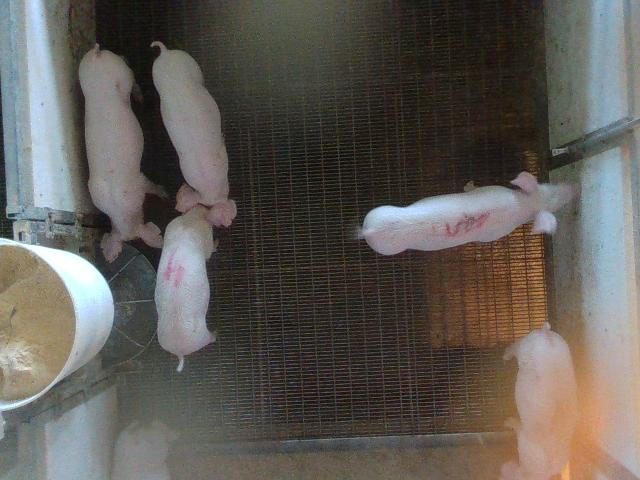pig-1: (501, 322, 578, 478)
pig-3: (360, 171, 574, 254)
pig-4: (155, 182, 236, 371)
